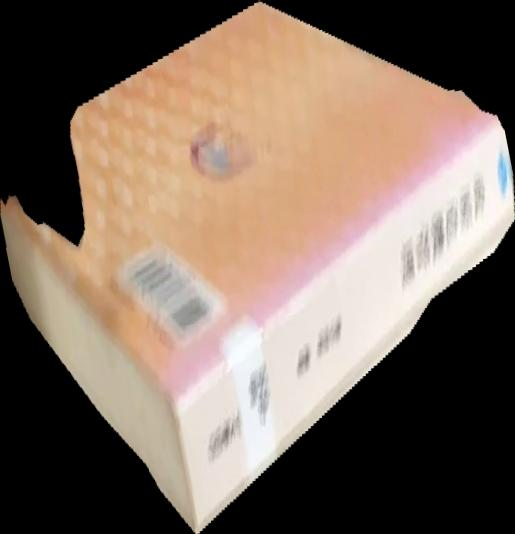flat: (1, 1, 515, 534)
